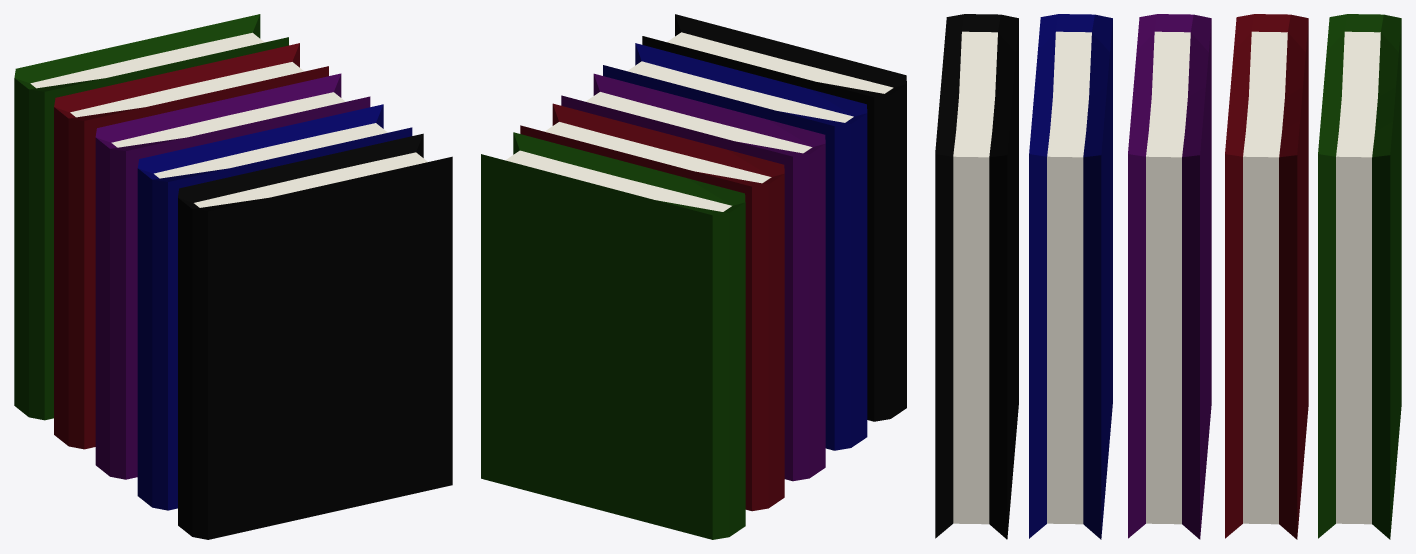
The model's file is livres.fbx.
The picture shows the model from 3 angles, left to right: view 1: azimuth 30°, elevation 25°; view 2: azimuth 150°, elevation 25°; view 3: azimuth 270°, elevation 25°; orthographic projection. The views are drawn at different scales.
Parts seen in each view (by area): view 1: livre_vert_copie3, livre_vert_copie1, livre_vert_copie, livre_vert_copie2, livre_vert; view 2: livre_vert, livre_vert_copie2, livre_vert_copie1, livre_vert_copie3, livre_vert_copie; view 3: livre_vert, livre_vert_copie1, livre_vert_copie, livre_vert_copie2, livre_vert_copie3.
Boxes of the visible parts, x1,y1,x2,y2 form: livre_vert_copie3: [178, 133, 452, 539]; livre_vert_copie1: [95, 73, 370, 479]; livre_vert_copie: [54, 43, 328, 449]; livre_vert_copie2: [137, 104, 412, 510]; livre_vert: [14, 14, 288, 420]; livre_vert: [481, 132, 745, 539]; livre_vert_copie2: [603, 43, 867, 450]; livre_vert_copie1: [561, 73, 825, 481]; livre_vert_copie3: [642, 14, 906, 421]; livre_vert_copie: [520, 103, 784, 511]; livre_vert: [1318, 14, 1401, 539]; livre_vert_copie1: [1128, 14, 1211, 539]; livre_vert_copie: [1225, 14, 1308, 539]; livre_vert_copie2: [1029, 14, 1112, 539]; livre_vert_copie3: [935, 14, 1018, 539].
Size of the model in its own units: 0.7948 by 1 by 1.1.
